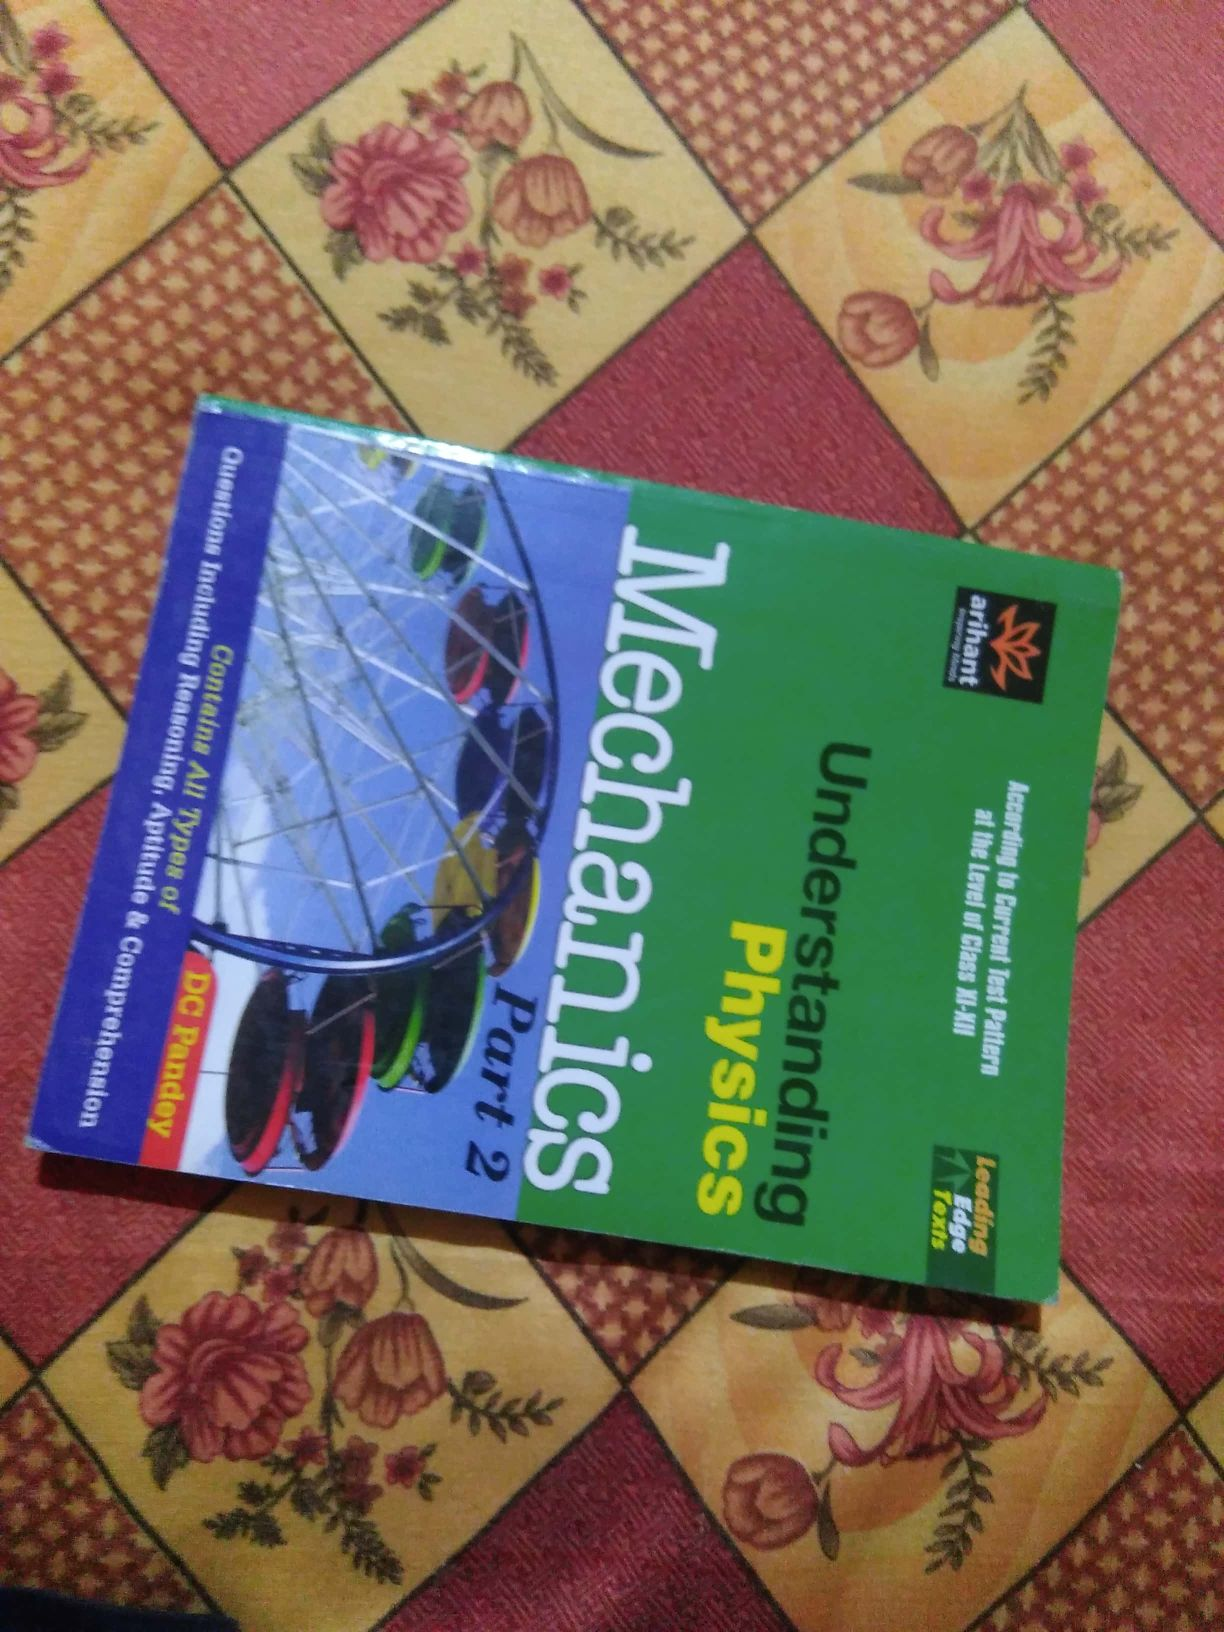mechanics: (87, 365, 1131, 1339)
